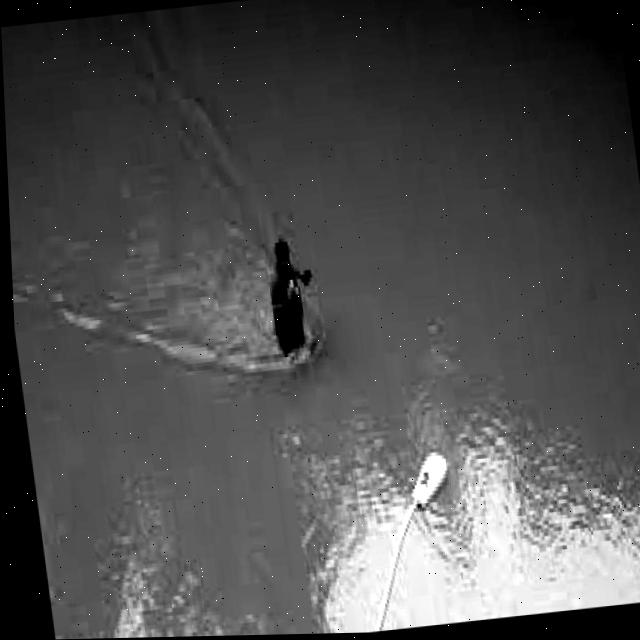civilian: (250, 231, 324, 374)
